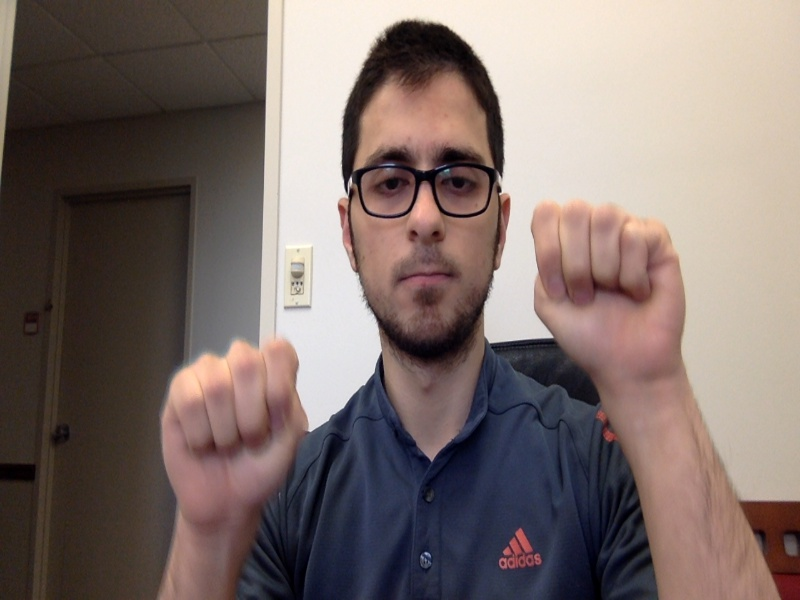0-hand: (530, 200, 685, 382), (161, 341, 304, 526)
